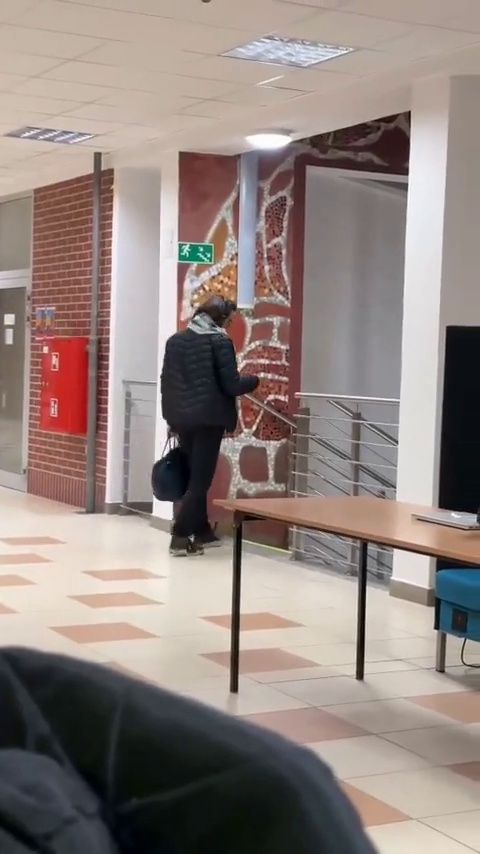no vest: (147, 296, 259, 559)
